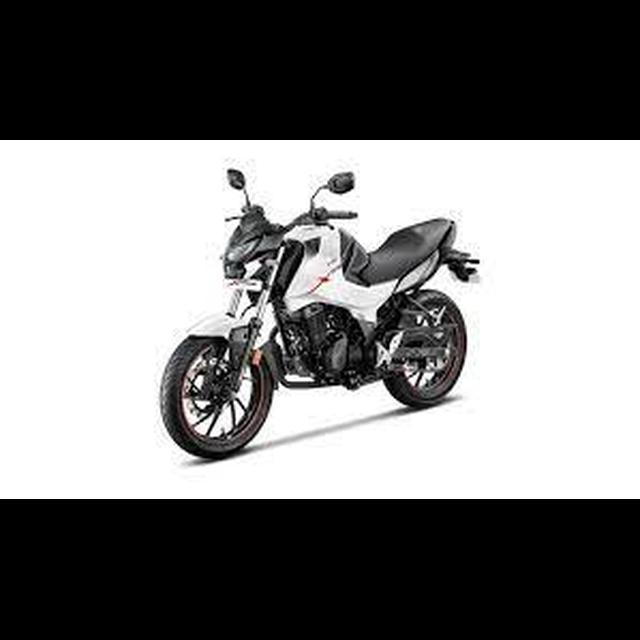motorcycle: (157, 161, 485, 464)
